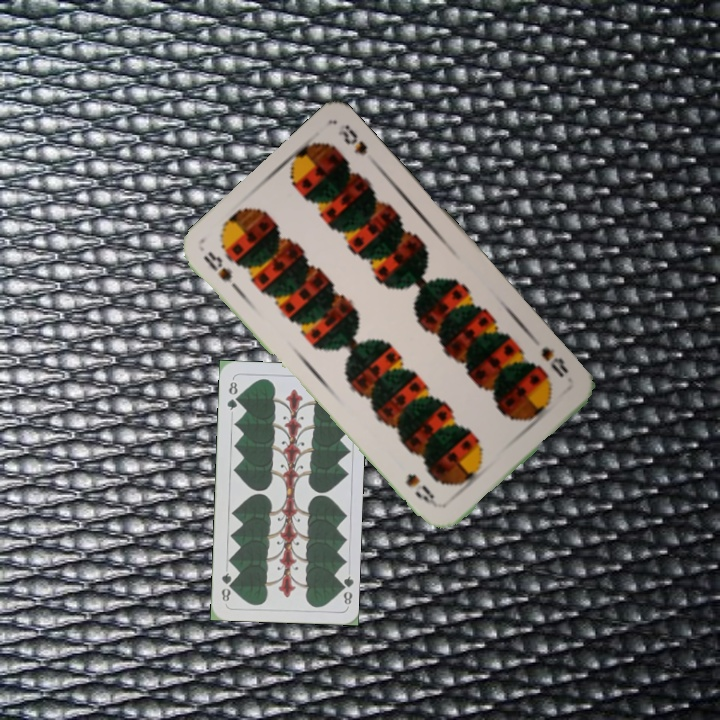G8: (335, 572, 355, 607), (223, 377, 241, 413)
S8: (198, 247, 244, 297), (536, 343, 571, 381)
